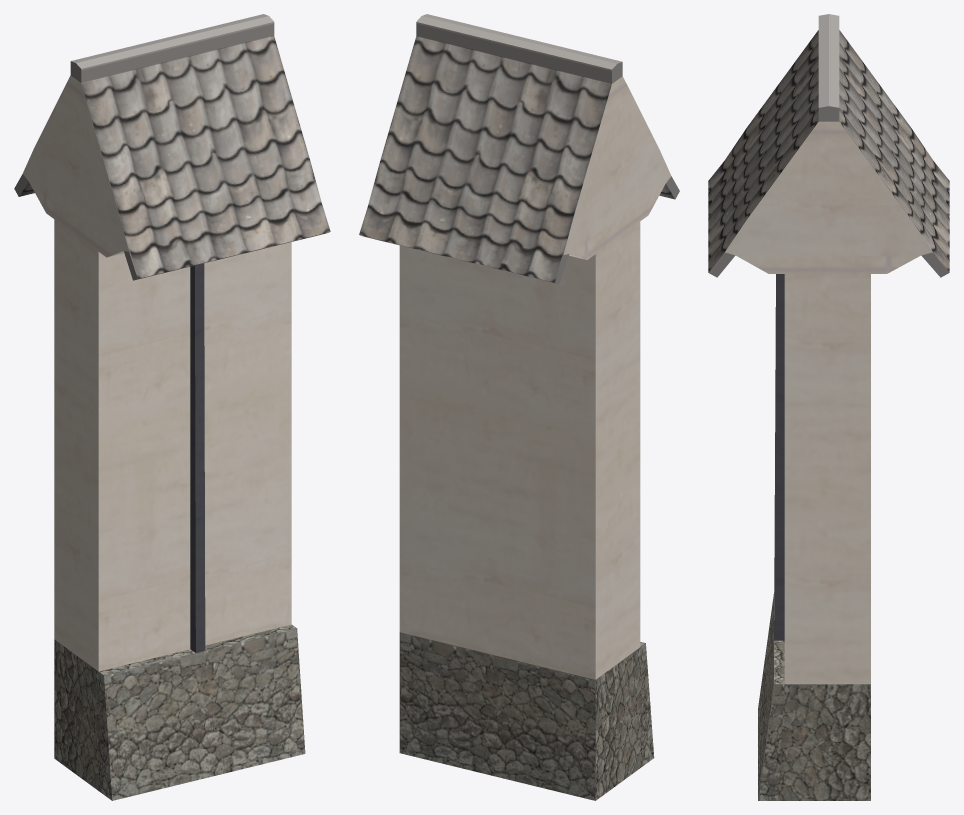
File: wall.fbx
3 views of the same model, side by side, from view 1: azimuth 30°, elevation 25°; view 2: azimuth 150°, elevation 25°; view 3: azimuth 270°, elevation 25° (orthographic). The views are drawn at different scales.
Visible parts, largest first — view 1: wall; view 2: wall; view 3: wall.
Boxes of the visible parts, x1,y1,x2,y2 form: wall: (14,14,330,800); wall: (359,14,679,800); wall: (708,14,949,800).
Bounding box in the file's own units: 100 × 352 × 111.
1 material, 1 textured.
